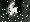person: (8, 1, 16, 18), (12, 7, 17, 16)
